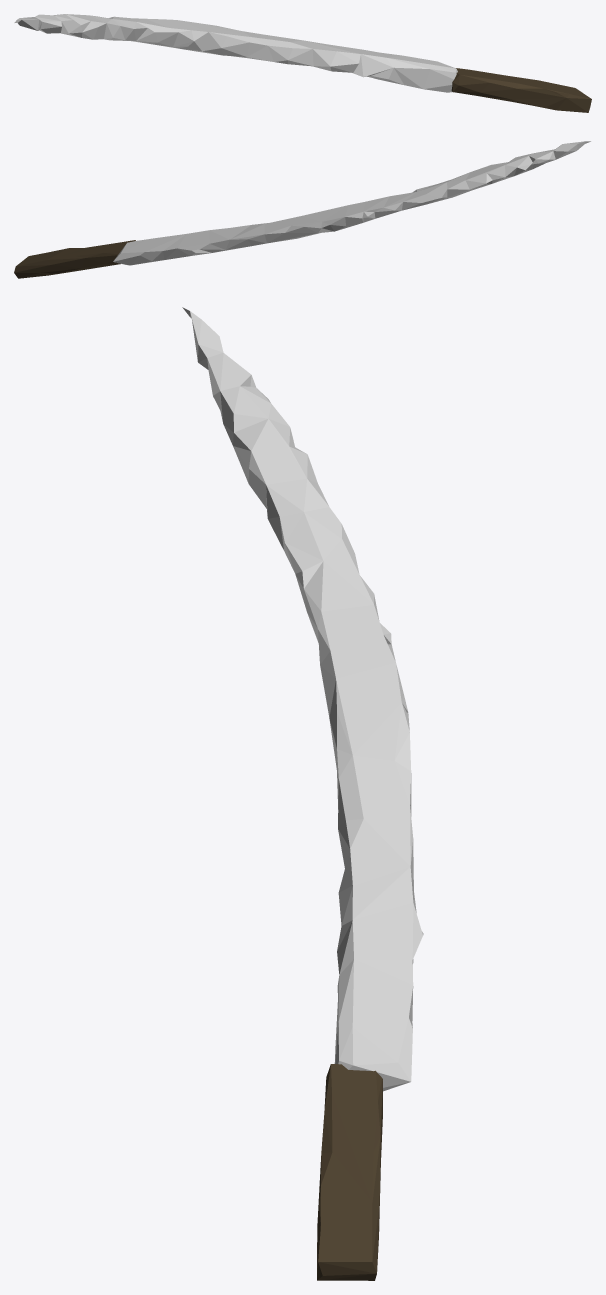
File: KATANA.fbx
3 renders of one model, top to bottom at view 1: azimuth 30°, elevation 25°; view 2: azimuth 150°, elevation 25°; view 3: azimuth 270°, elevation 25°, orthographic. The views are drawn at different scales.
Visible parts, largest first — view 1: Layer_13; view 2: Layer_13; view 3: Layer_13.
Boxes of the visible parts, bbox=[...] form: Layer_13: bbox=[14, 14, 591, 112]; Layer_13: bbox=[14, 141, 590, 278]; Layer_13: bbox=[182, 307, 423, 1280].
Bounding box in the file's own units: 198 × 82.34 × 39.07.
